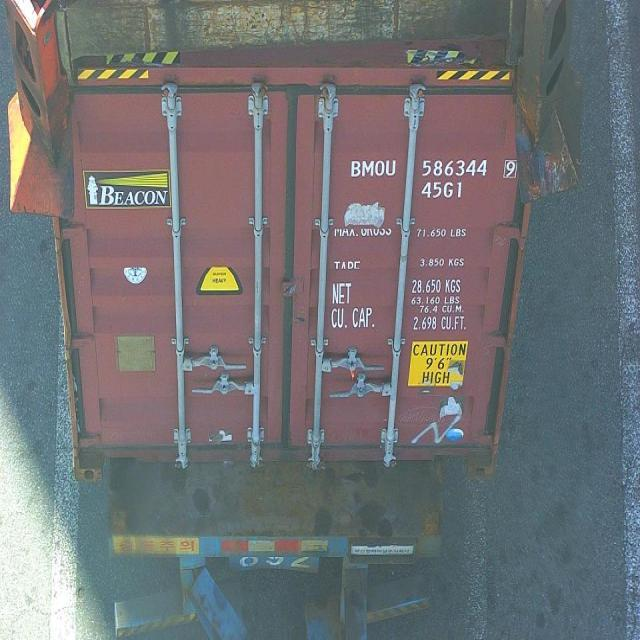ISO: (422, 181, 465, 199)
container_number: (353, 151, 516, 178)
